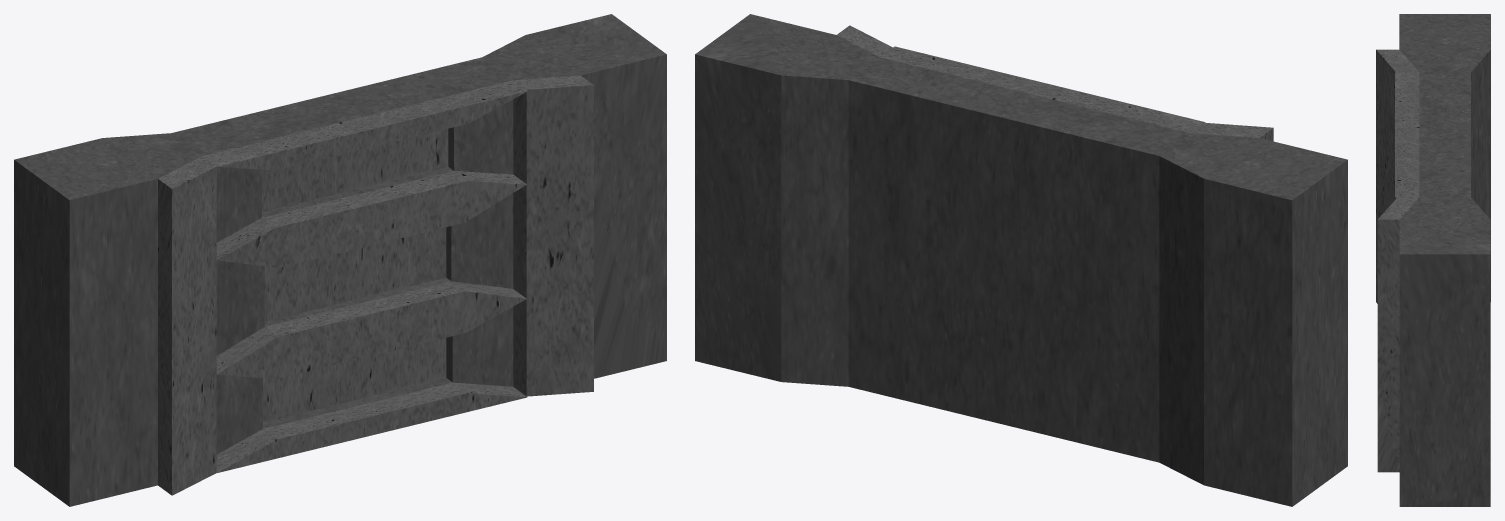
File: NuclearWallSection.fbx
3 views of the same model, side by side, from view 1: azimuth 30°, elevation 25°; view 2: azimuth 150°, elevation 25°; view 3: azimuth 270°, elevation 25° (orthographic). The views are drawn at different scales.
Visible parts, largest first — view 1: Wall_Section; view 2: Wall_Section; view 3: Wall_Section.
Part boxes in pixels (bbox=[...]): Wall_Section: bbox=[14, 14, 666, 506]; Wall_Section: bbox=[695, 14, 1347, 506]; Wall_Section: bbox=[1376, 14, 1490, 506].
Bounding box in the file's own units: 0.1733 × 0.085 × 0.035.
Materials: 1 (1 with a texture image).
